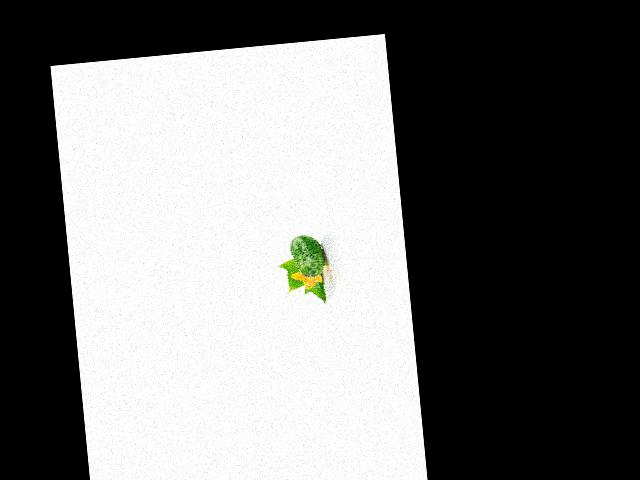cucumber: (289, 233, 326, 277)
